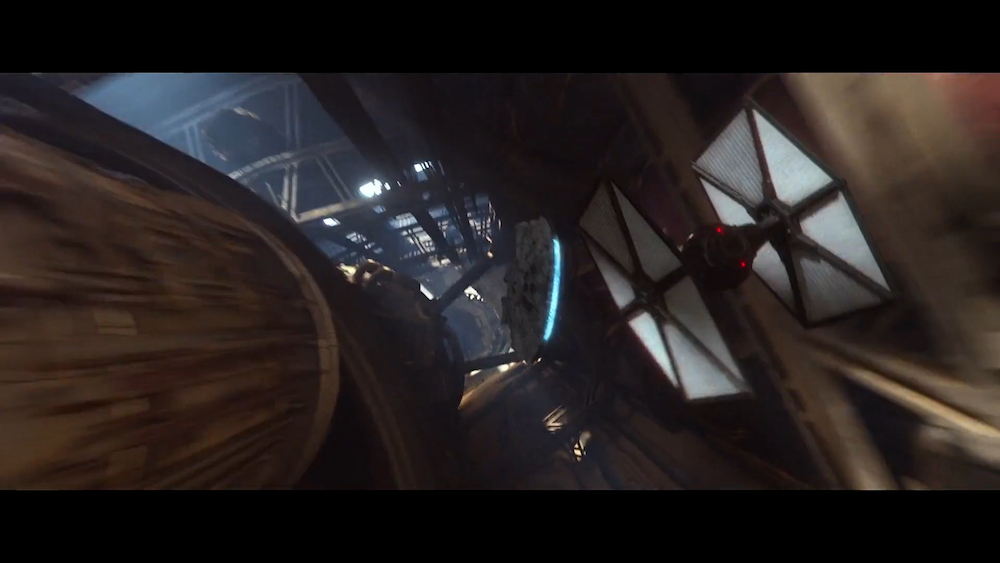Millennium Falcon: (500, 216, 566, 369)
Tie Fighter: (575, 95, 901, 409)
